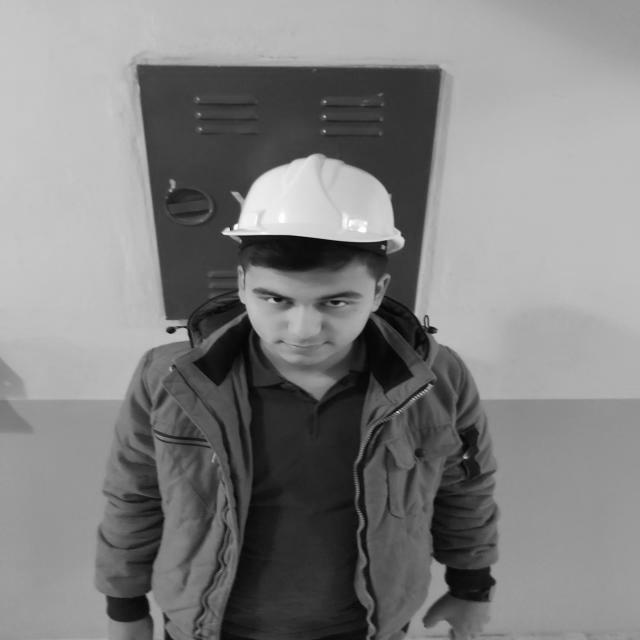construction helmet: (223, 161, 405, 253)
